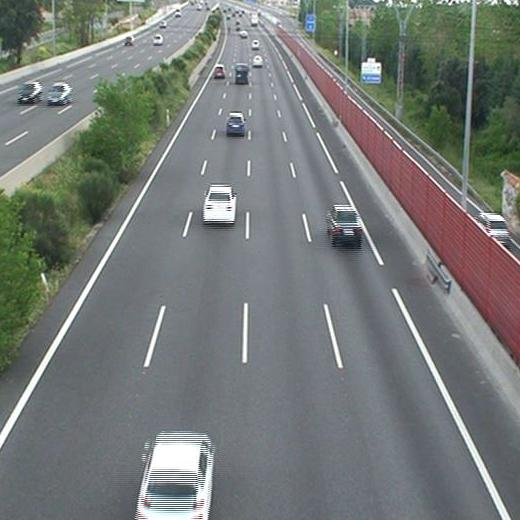car: (136, 430, 209, 520), (327, 206, 363, 240), (204, 186, 235, 222), (227, 112, 245, 134), (213, 65, 226, 77), (253, 56, 263, 66)
van: (236, 64, 249, 83)
